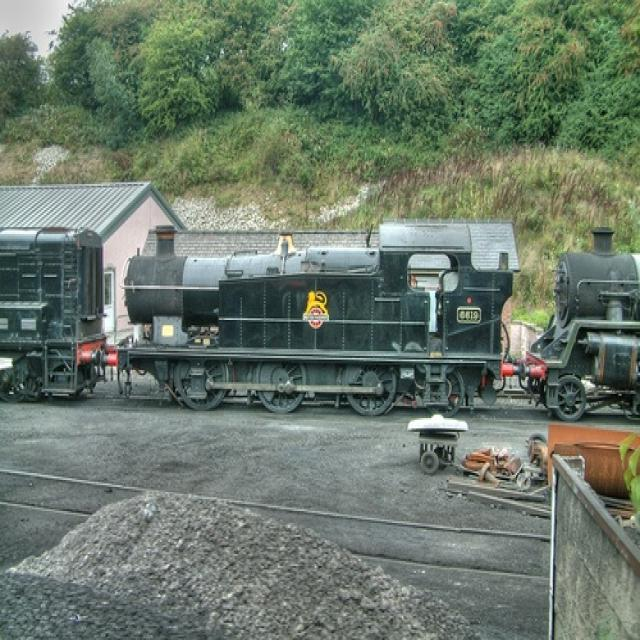train: (0, 226, 639, 424)
